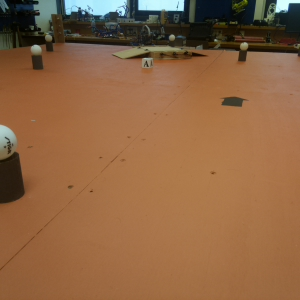blockA: (141, 57, 155, 68)
corner: (54, 13, 65, 42)
obstacle: (1, 121, 25, 208), (235, 39, 249, 63), (33, 46, 46, 70), (44, 34, 54, 50)
side: (154, 49, 192, 61)
slope: (115, 46, 152, 53)
start: (218, 91, 247, 112)
